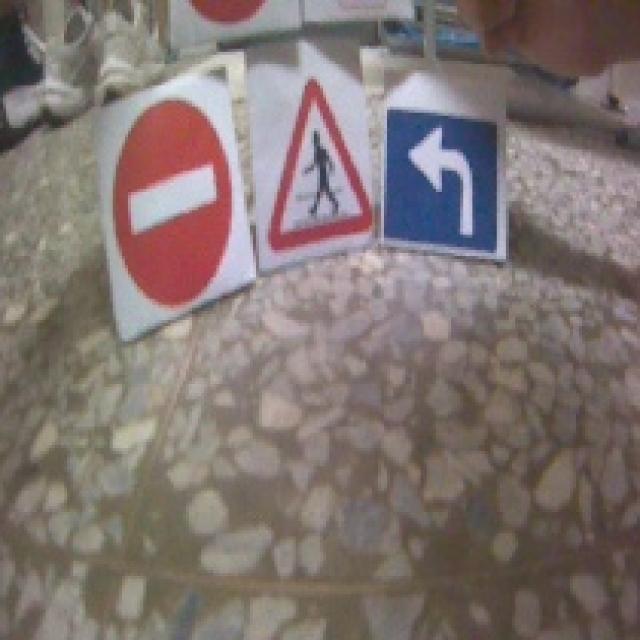DoNotEnterSign: (111, 96, 236, 311)
